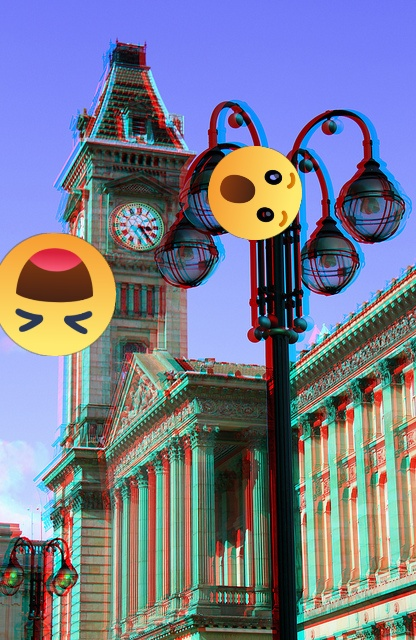haha: (0, 233, 116, 356)
wow: (208, 146, 302, 240)
